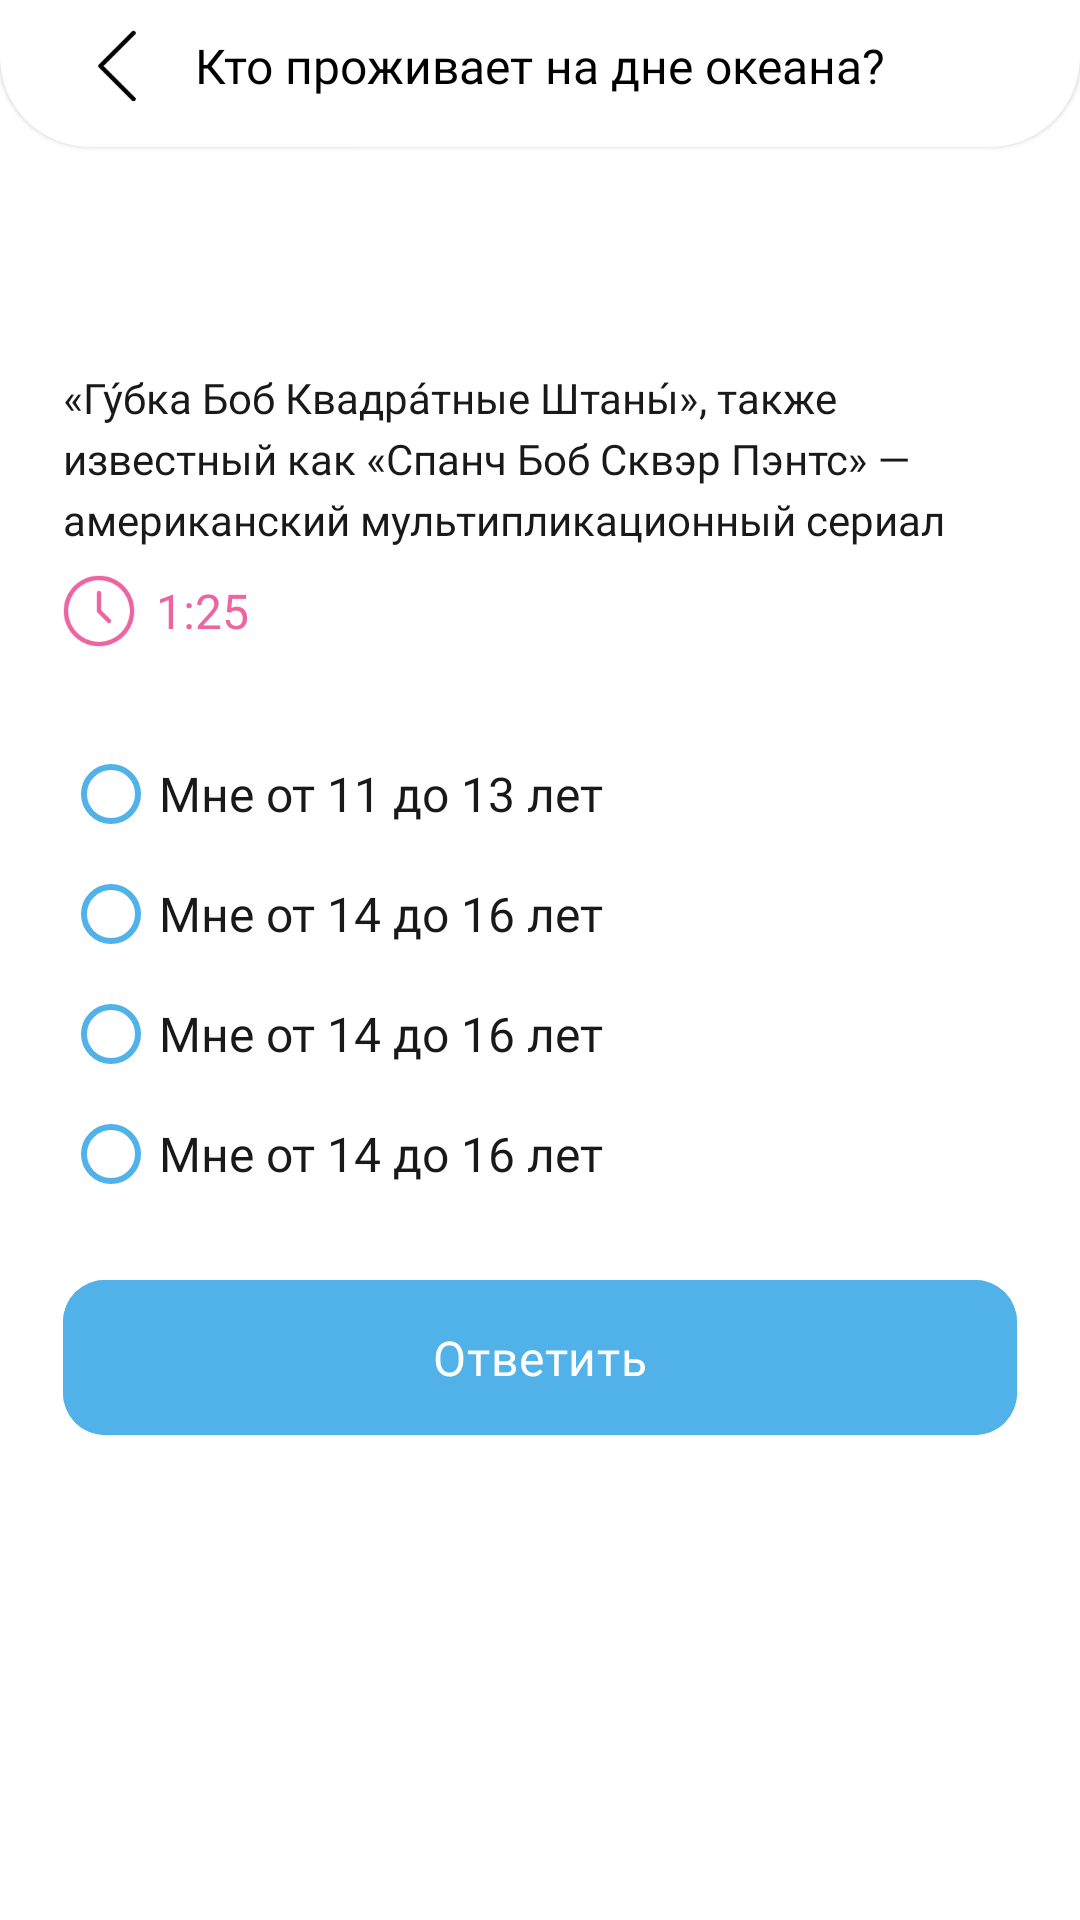

Icons on this 1080w x 1920h Android screen, each with the point to tap as (x,y):
arrow left: (117,66)
time: (99,611)
